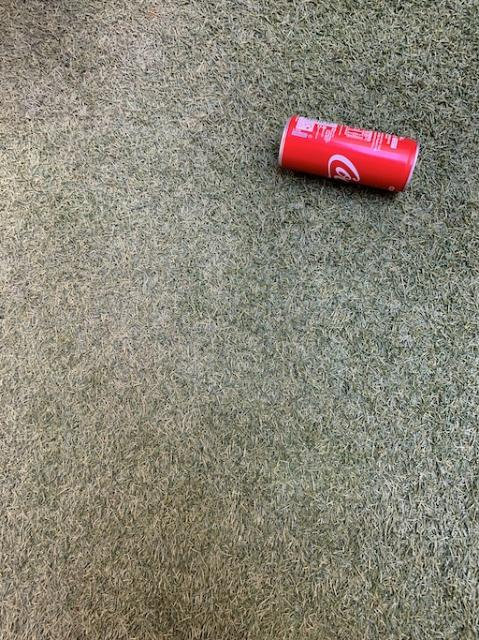metal: (278, 114, 418, 189)
